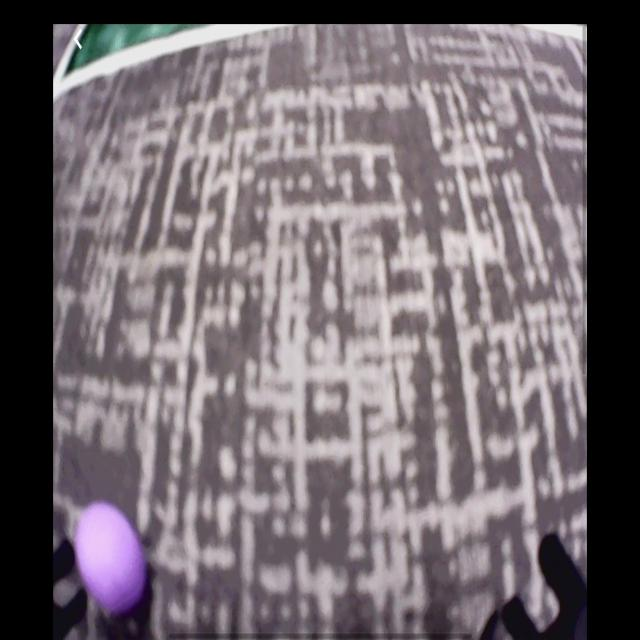ball: (72, 501, 146, 617)
